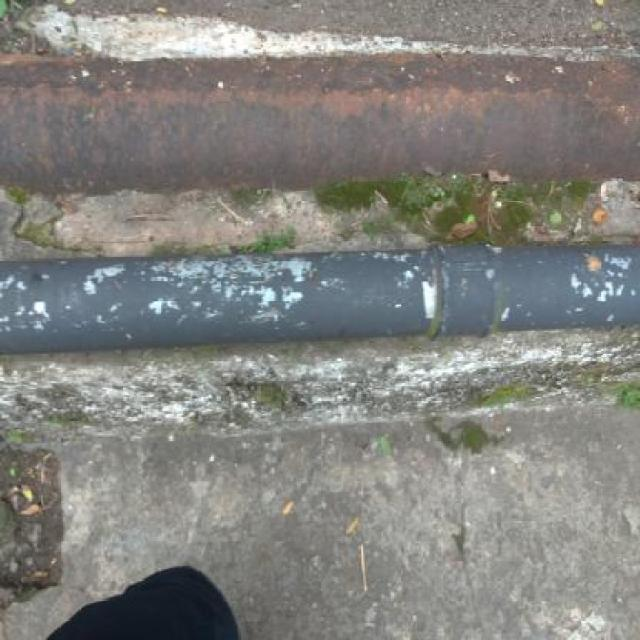gas: (0, 57, 640, 188), (0, 247, 640, 345)
